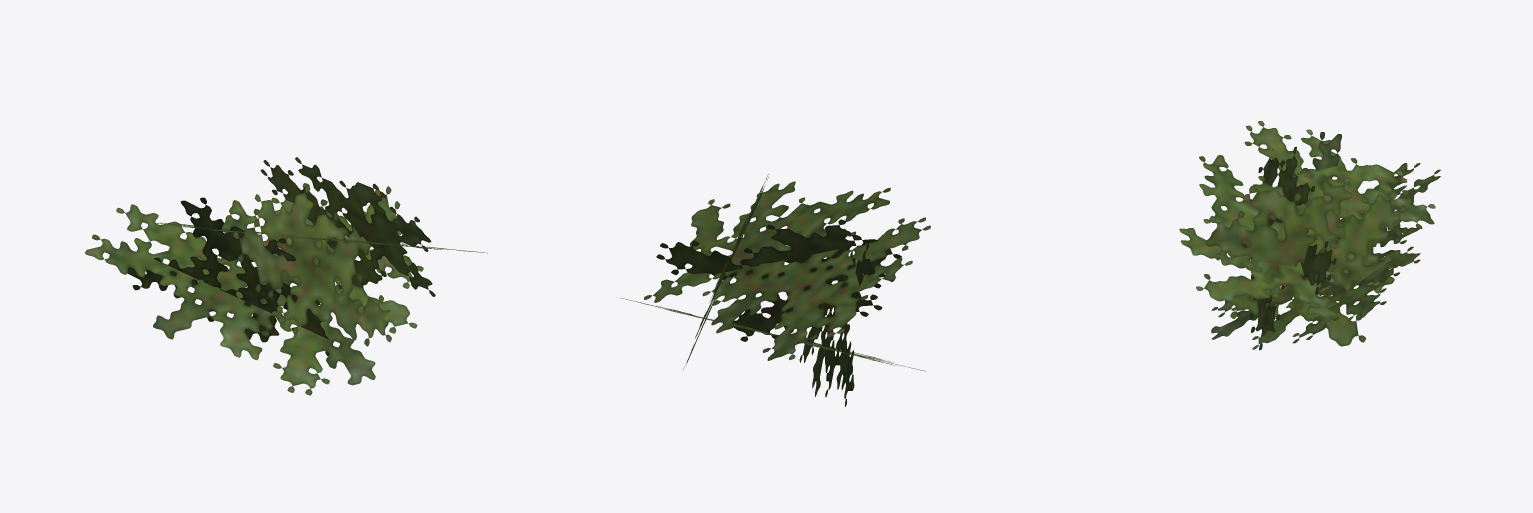
The model's file is pine_leaves_green_slab.obj.
3 renders of one model, left to right at view 1: azimuth 30°, elevation 25°; view 2: azimuth 150°, elevation 25°; view 3: azimuth 270°, elevation 25°, orthographic. The views are drawn at different scales.
Visible parts, largest first — view 1: plane; view 2: plane; view 3: plane.
Part boxes in pixels (bbox=[...]): plane: bbox=[85, 157, 487, 395]; plane: bbox=[620, 174, 930, 406]; plane: bbox=[1179, 121, 1440, 350].
Bounding box in the file's own units: 2.11 × 2.18 × 1.98.
